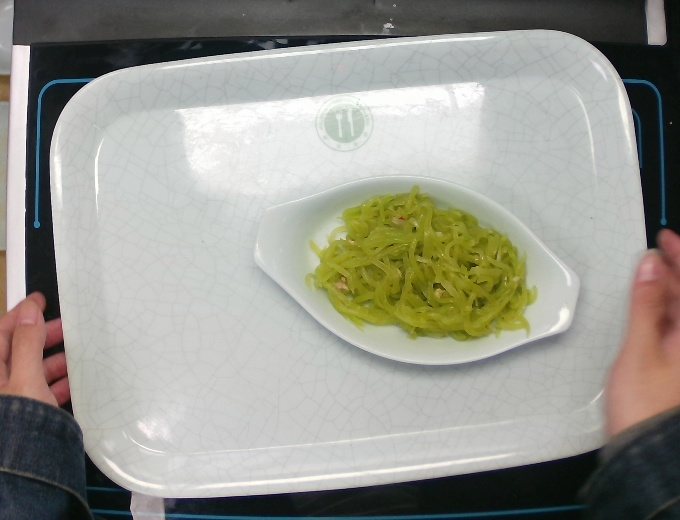JYsf-Yu_Pan: (253, 174, 580, 369)
